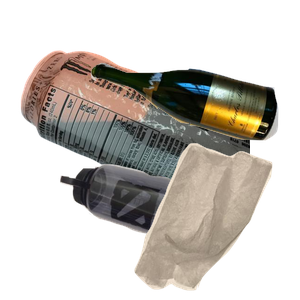glass: (88, 60, 300, 193)
metal: (18, 48, 258, 228)
plastic: (58, 162, 261, 300)
trash: (132, 140, 300, 300)
